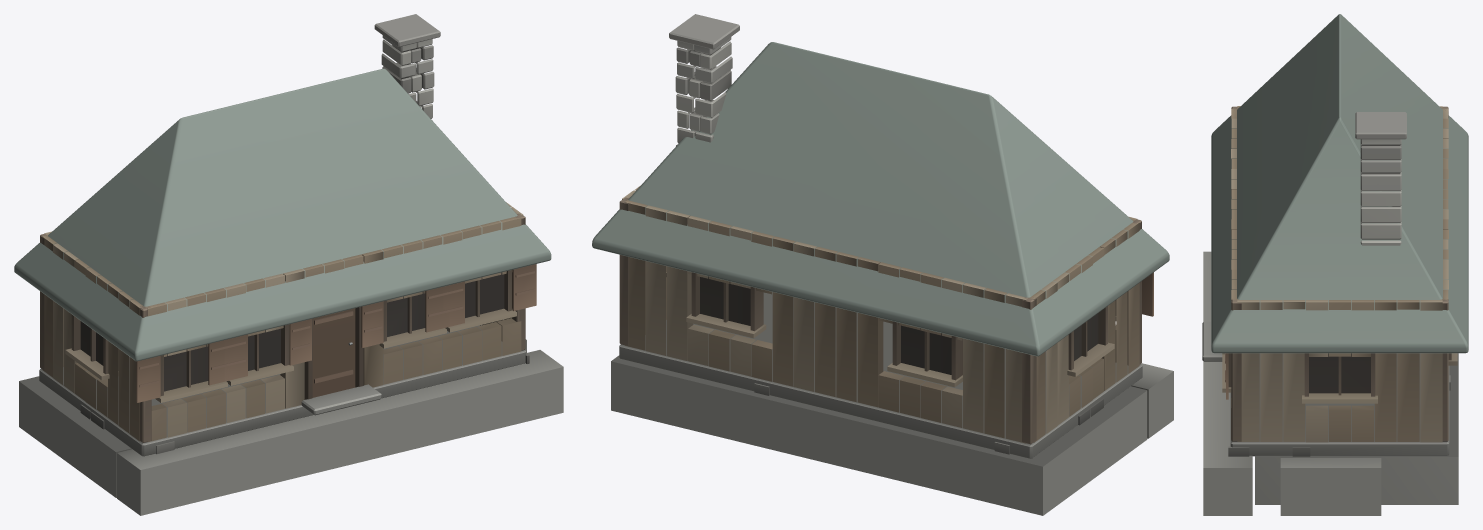
File: hiproof.glb
The picture shows the model from 3 angles, left to right: view 1: azimuth 30°, elevation 25°; view 2: azimuth 150°, elevation 25°; view 3: azimuth 270°, elevation 25°; orthographic projection. The views are drawn at different scales.
Bounding box in the file's own units: 9.98 × 7.66 × 5.18.
